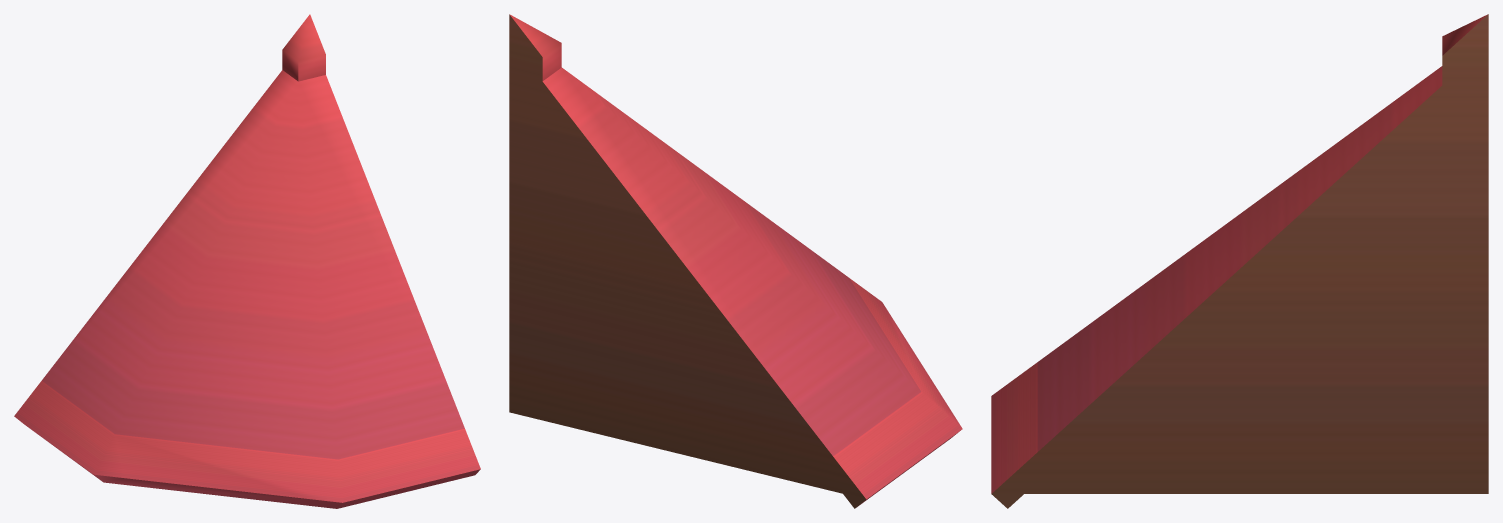
File: roof-high-corner-round.glb
3 views of the same model, side by side, from view 1: azimuth 30°, elevation 25°; view 2: azimuth 150°, elevation 25°; view 3: azimuth 270°, elevation 25° (orthographic). The views are drawn at different scales.
Visible parts, largest first — view 1: roof-high-corner-round; view 2: roof-high-corner-round; view 3: roof-high-corner-round.
Part boxes in pixels (bbox=[...]): roof-high-corner-round: bbox=[14, 14, 480, 508]; roof-high-corner-round: bbox=[509, 14, 962, 508]; roof-high-corner-round: bbox=[991, 14, 1488, 508].
Size of the model in its own units: 1.07 by 1.18 by 1.07.
1 material, 1 textured.
